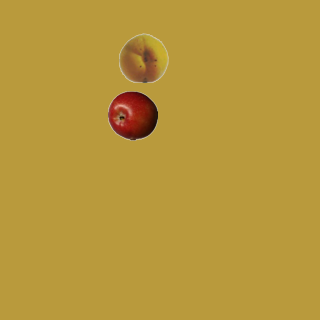Apple Braeburn: (107, 90, 157, 140)
Peach 2: (118, 32, 168, 82)
